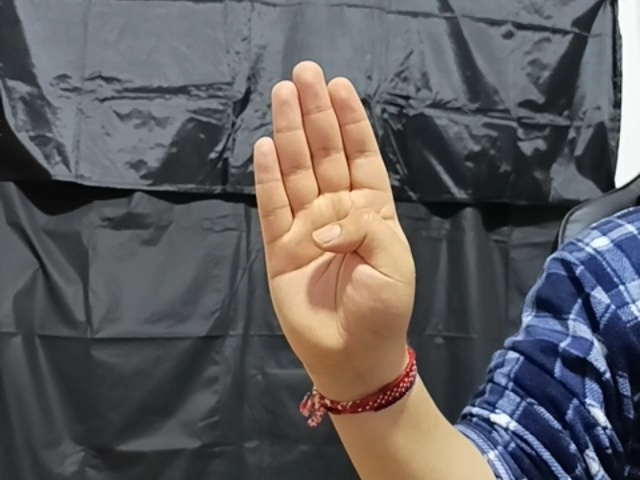B: (241, 54, 418, 361)
